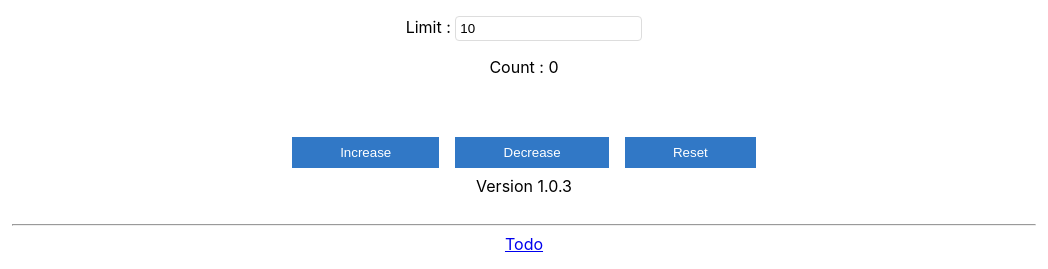
Counter increments and decrements correctly
This screenshot has width=1048, height=269.
Check: the text "Count : 0" is shown, box x1=489 y1=57 x2=558 y2=77
Note: Test Increase Function
Click the button "Increase". click: (366, 152)
box: x1=292 y1=137 x2=440 y2=168
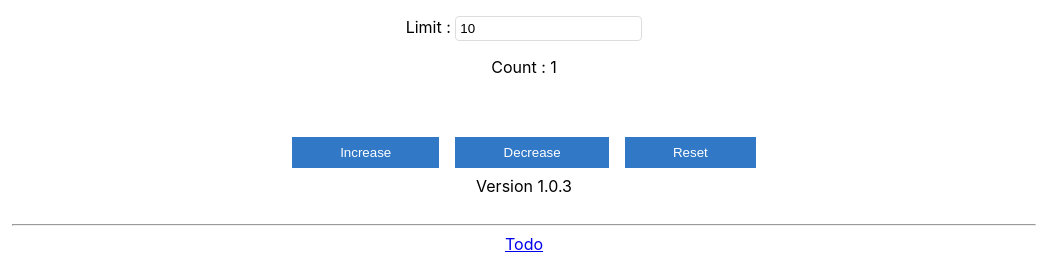
Check: the text "Count : 0" reads "Count : 1", box x1=491 y1=57 x2=557 y2=77
Note: Test Decrease Function
Click the button "Decrease". click: (532, 152)
box: x1=456 y1=137 x2=609 y2=168
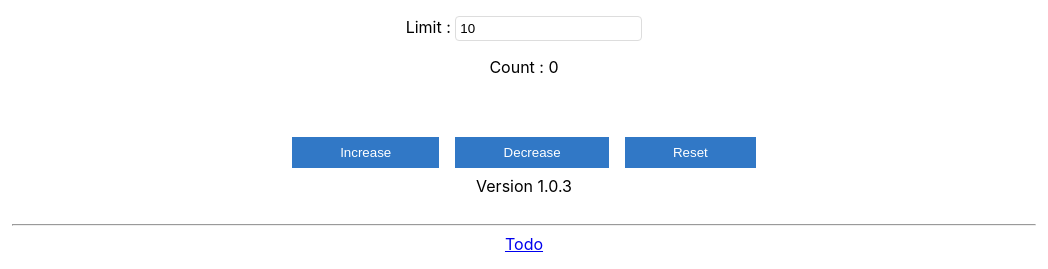
Check: the text "Count : 0" is shown, box x1=489 y1=57 x2=558 y2=77
